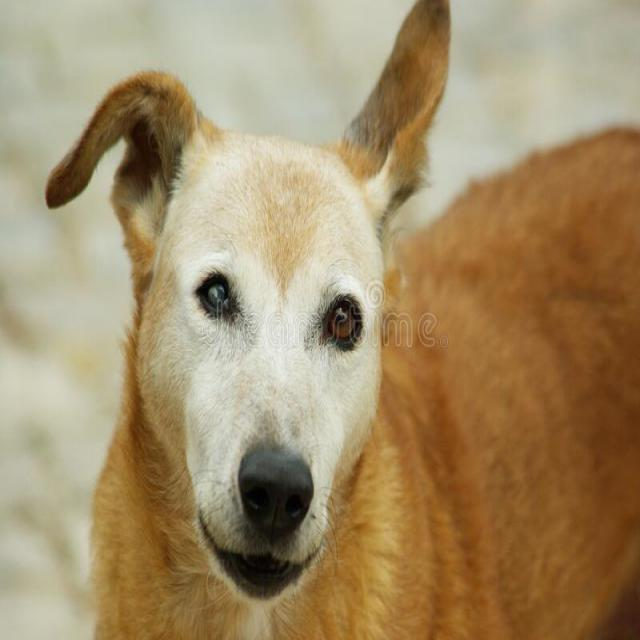eye: (194, 266, 240, 327), (323, 290, 363, 353)
